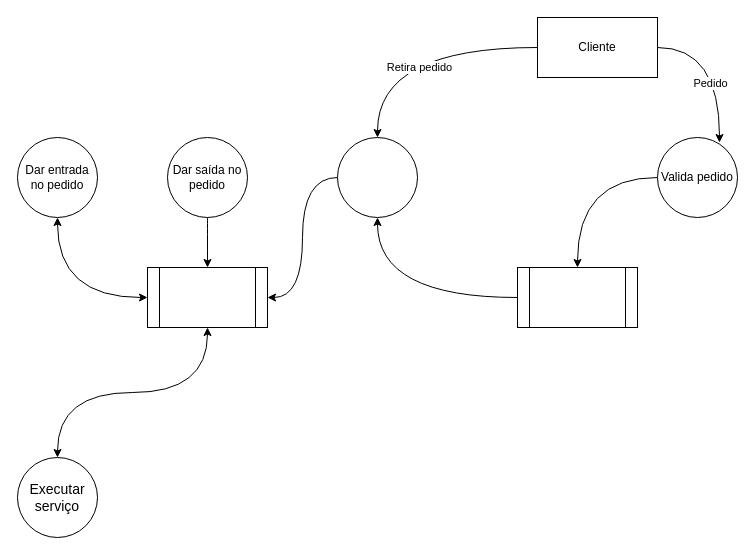
This 755x555 diagram has some shape labels left out. Each missing label, with the box of its shape:
Agendamento: (516, 266, 638, 328)
Protese: (146, 266, 268, 328)
Retirar pedido: (336, 136, 418, 218)
